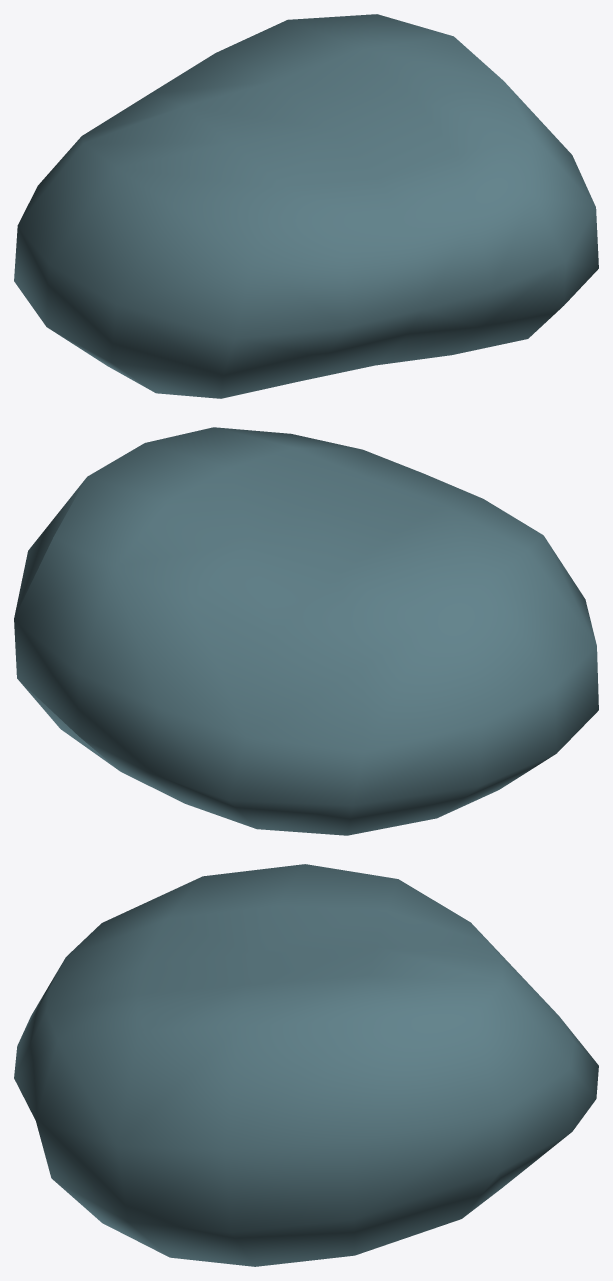
File: Rock_C_06_LOD2.gltf
The picture shows the model from 3 angles, top to bottom: view 1: azimuth 30°, elevation 25°; view 2: azimuth 150°, elevation 25°; view 3: azimuth 270°, elevation 25°; orthographic projection. The views are drawn at different scales.
Visible parts, largest first — view 1: Rock_C_06_LOD2_Cube.765; view 2: Rock_C_06_LOD2_Cube.765; view 3: Rock_C_06_LOD2_Cube.765.
Boxes of the visible parts, x1,y1,x2,y2 form: Rock_C_06_LOD2_Cube.765: [14, 14, 598, 398]; Rock_C_06_LOD2_Cube.765: [14, 427, 598, 835]; Rock_C_06_LOD2_Cube.765: [14, 864, 598, 1266].
Bounding box in the file's own units: 6.18 × 2.77 × 5.91.
1 material, 1 textured.
